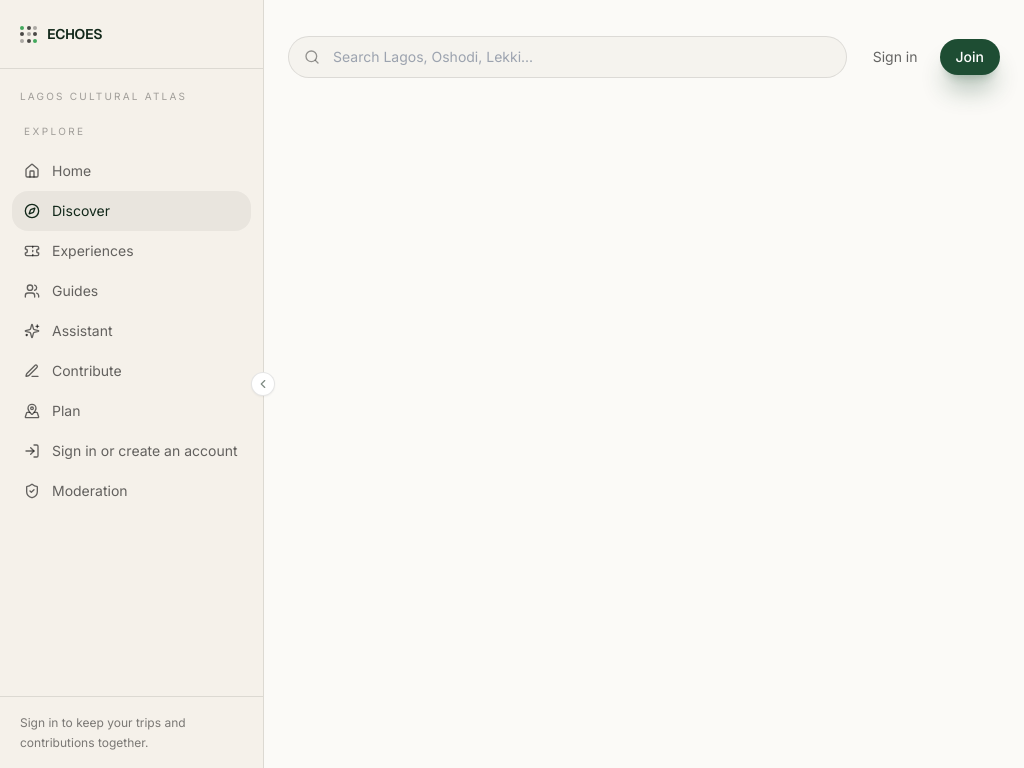
it: where the rail belongs › goes away when navigating from an app page back to the landing page
Expected: the element with id "site-rail" is shown, [0, 0, 264, 767]
Step 1. Click the link with aria-label "ECHOES home" → click(61, 34), box [20, 24, 102, 44]
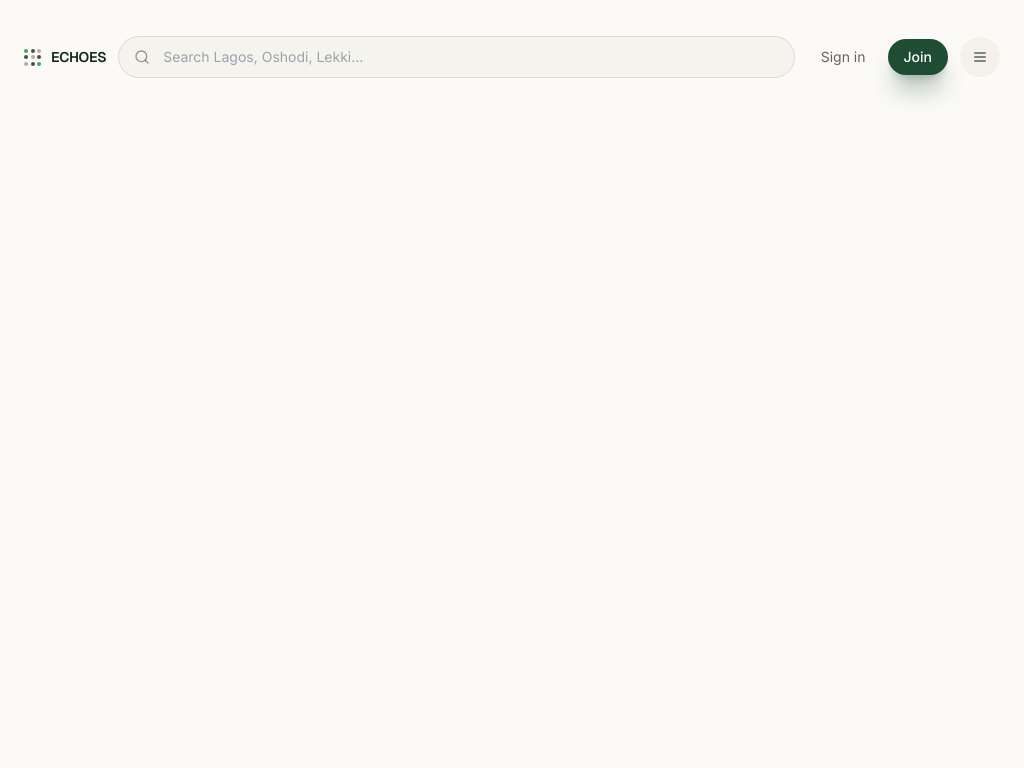
Result: the button with id "site-rail" is gone
